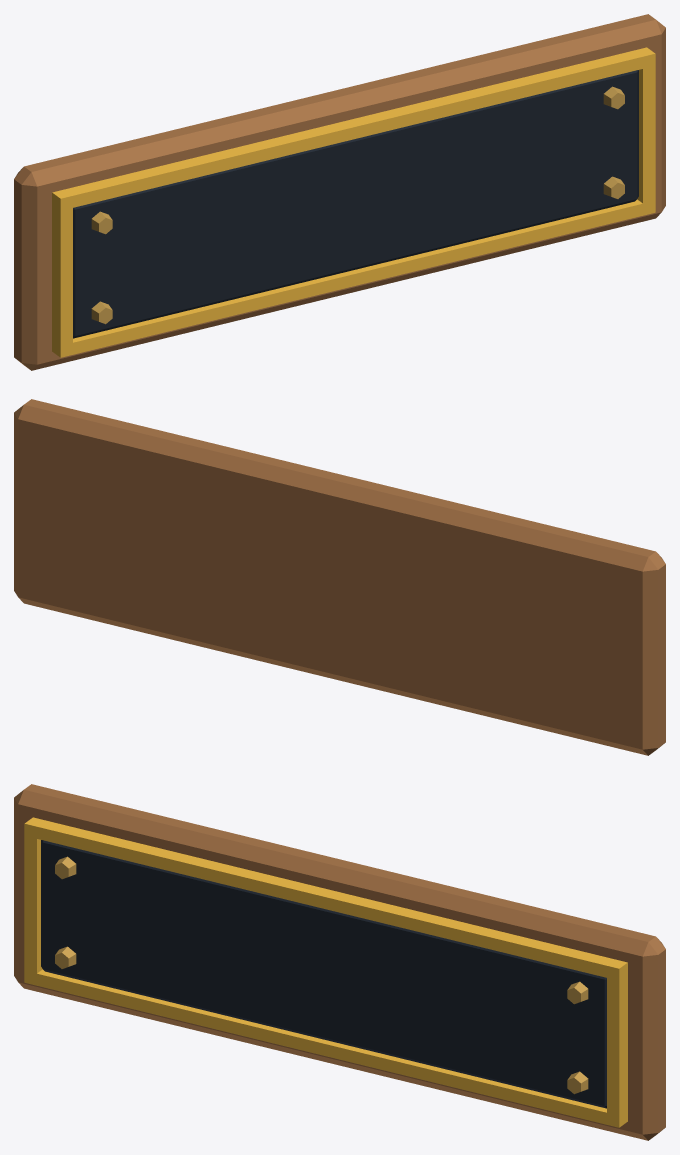
File: Gallery_OwnerNameplate.fbx
3 renders of one model, top to bottom at view 1: azimuth 30°, elevation 25°; view 2: azimuth 150°, elevation 25°; view 3: azimuth 330°, elevation 25°, orthographic.
Visible parts, largest first — view 1: Slate, Wood, Amber_Metal, Brass; view 2: Wood; view 3: Slate, Wood, Amber_Metal, Brass.
Boxes of the visible parts, x1=… form: Slate: x1=73, y1=70, x2=638, y2=338; Wood: x1=14, y1=14, x2=665, y2=370; Amber_Metal: x1=52, y1=47, x2=655, y2=357; Brass: x1=91, y1=86, x2=624, y2=324; Wood: x1=14, y1=399, x2=665, y2=755; Slate: x1=41, y1=840, x2=606, y2=1108; Wood: x1=14, y1=784, x2=665, y2=1140; Amber_Metal: x1=24, y1=817, x2=627, y2=1127; Brass: x1=55, y1=856, x2=588, y2=1094.
Bounding box in the file's own units: 3.9 × 1.15 × 0.33.
